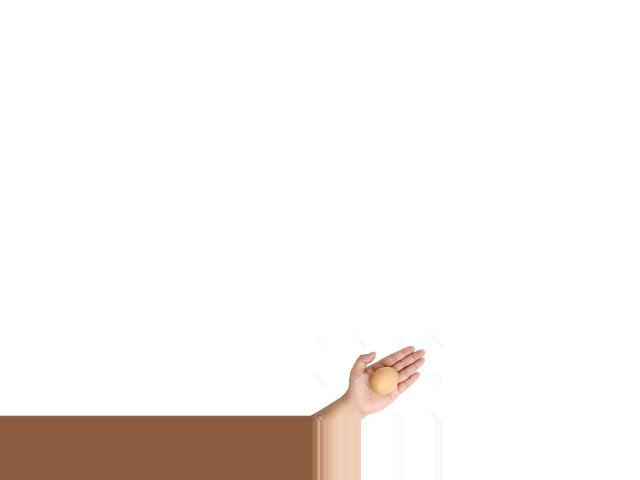egg: (369, 367, 397, 394)
